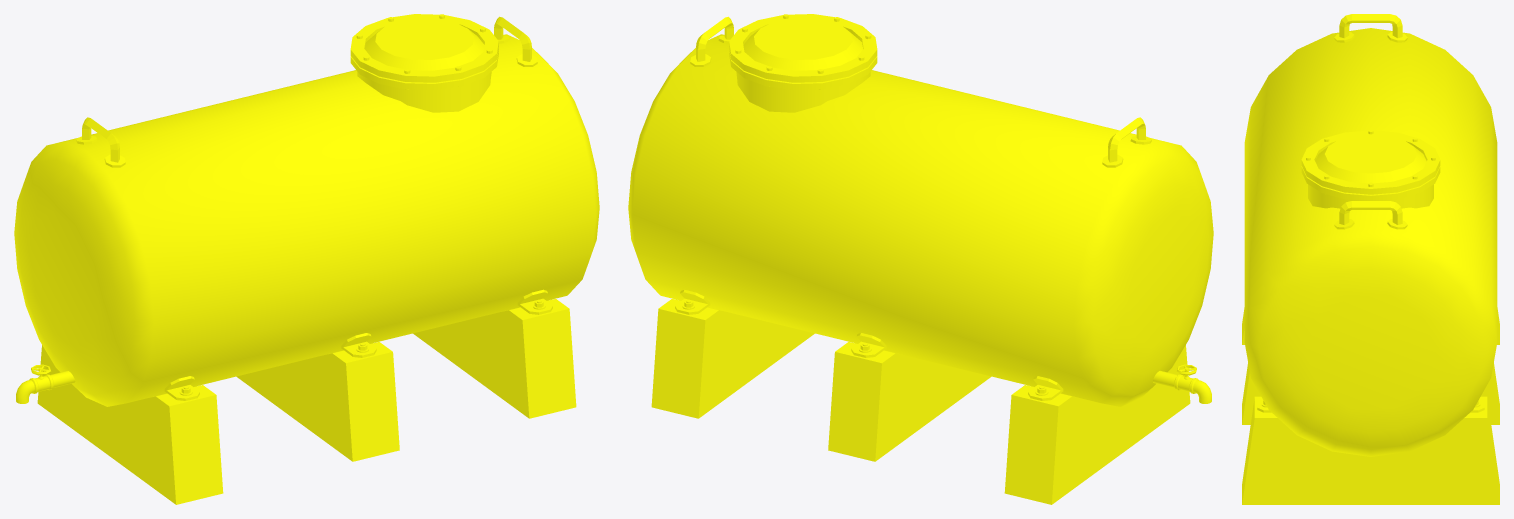
Rendered from storage_tank_mx_1.glb.
3 renders of one model, left to right at view 1: azimuth 30°, elevation 25°; view 2: azimuth 150°, elevation 25°; view 3: azimuth 270°, elevation 25°, orthographic. The views are drawn at different scales.
Parts seen in each view (by area): view 1: storage_tank_mx_1; view 2: storage_tank_mx_1; view 3: storage_tank_mx_1.
Part boxes in pixels (x1=…): storage_tank_mx_1: x1=14, y1=14, x2=599, y2=504; storage_tank_mx_1: x1=628, y1=14, x2=1213, y2=504; storage_tank_mx_1: x1=1242, y1=14, x2=1499, y2=504.
Bounding box in the file's own units: 4.53 × 2.74 × 2.04.
2 materials, 2 textured.
